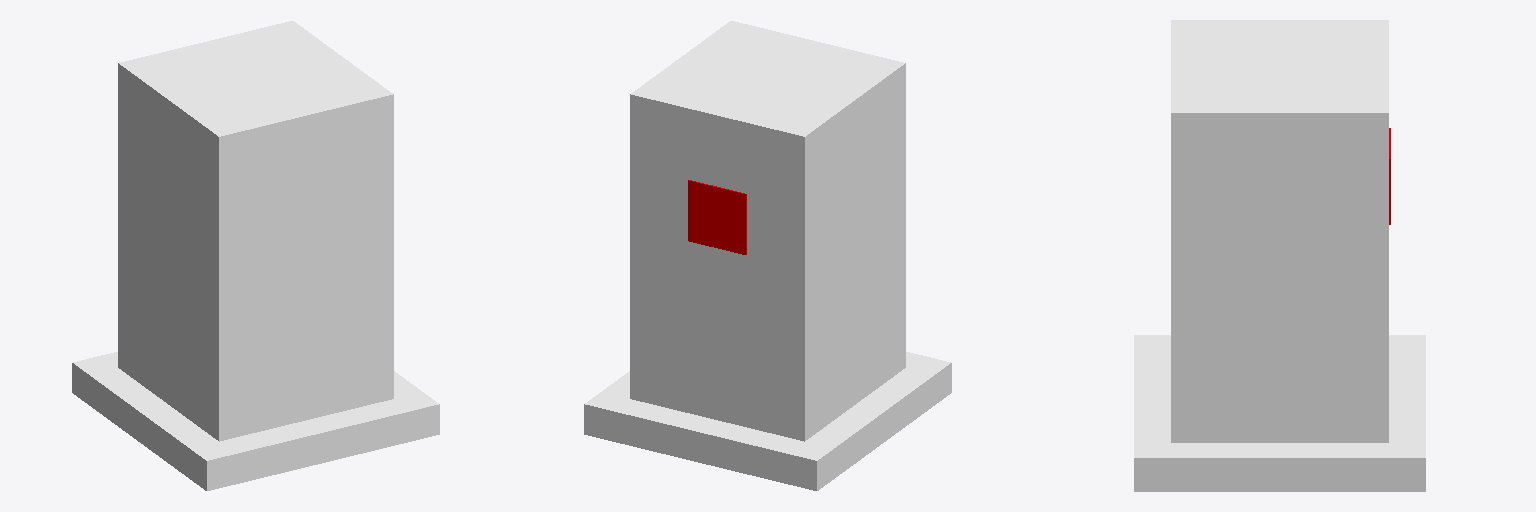
robot.urdf — laser_station:
<?xml version="1.0"?>
<robot name="laser_station">

  <link name="base_link">
    <visual>
      <origin xyz="0 0 0.005" rpy="0 0 0"/>
      <geometry>
        <box size="0.08 0.08 0.01"/>
      </geometry>
      <material name="laser_station_base_material">
        <color rgba="1 1 1 1"/>
      </material>
    </visual>
    <collision>
      <origin xyz="0 0 0.005" rpy="0 0 0"/>
      <geometry>
        <box size="0.08 0.08 0.01"/>
      </geometry>
    </collision>
  </link>


  <link name="laser_station_body">
    <visual>
      <origin xyz="0 0 0.060000000000000005" rpy="0 0 0.0"/>
      <geometry>
        <box size="0.06 0.06 0.1"/>
      </geometry>
      <material name="laser_station_body_material">
        <color rgba="1 1 1 1"/>
        
      </material>
    </visual>
    <collision>
      <origin xyz="0 0 0.060000000000000005" rpy="0 0 0.0"/>
      <geometry>
        <box size="0.06 0.06 0.1"/>
      </geometry>
    </collision>
  </link>

    <!-- Laser marker at the front surface -->
    <link name="laser_station_marker">
      <visual>
        <origin xyz="0 0.03 0.07666666666666666" rpy="0 0 0.0"/>
        <geometry>
            <box size="0.02 0.001 0.02"/>
        </geometry>
        <material name="laser_station_marker_material">
            <color rgba="1 0 0 1"/>
        </material>
      </visual>
    </link>


  <joint name="base_to_laser_station_body" type="fixed">
    <parent link="base_link"/>
    <child link="laser_station_body"/>
    <origin xyz="0 0 0" rpy="0 0 0"/>
  </joint>

  <joint name="laser_station_body_to_marker" type="fixed">
    <parent link="laser_station_body"/>
    <child link="laser_station_marker"/>
    <origin xyz="0 0 0" rpy="0 0 0"/>
  </joint>

</robot>

--- What the picture shows (computed from the rendered views, not written in the file) ---
3 views of the same robot in one strip: view 1: azimuth 30°, elevation 25°; view 2: azimuth 150°, elevation 25°; view 3: azimuth 270°, elevation 25° (orthographic).
Robot: laser_station — 3 links, 2 joints (2 fixed); root link base_link; default pose: all joints at 0.
Visible links, largest first — view 1: laser_station_body, base_link; view 2: laser_station_body, base_link, laser_station_marker; view 3: laser_station_body, base_link.
Boxes of the visible links, <box> form: laser_station_body: <box>118,21,393,441</box>; base_link: <box>72,352,439,490</box>; laser_station_body: <box>630,21,905,441</box>; base_link: <box>584,352,951,490</box>; laser_station_marker: <box>688,180,746,254</box>; laser_station_body: <box>1171,20,1388,442</box>; base_link: <box>1134,335,1425,491</box>.
Bounding box of the posed robot: 0.08 × 0.08 × 0.11 m (x, y, z).
Geometry: primitives only (box / cylinder / sphere), no mesh files.